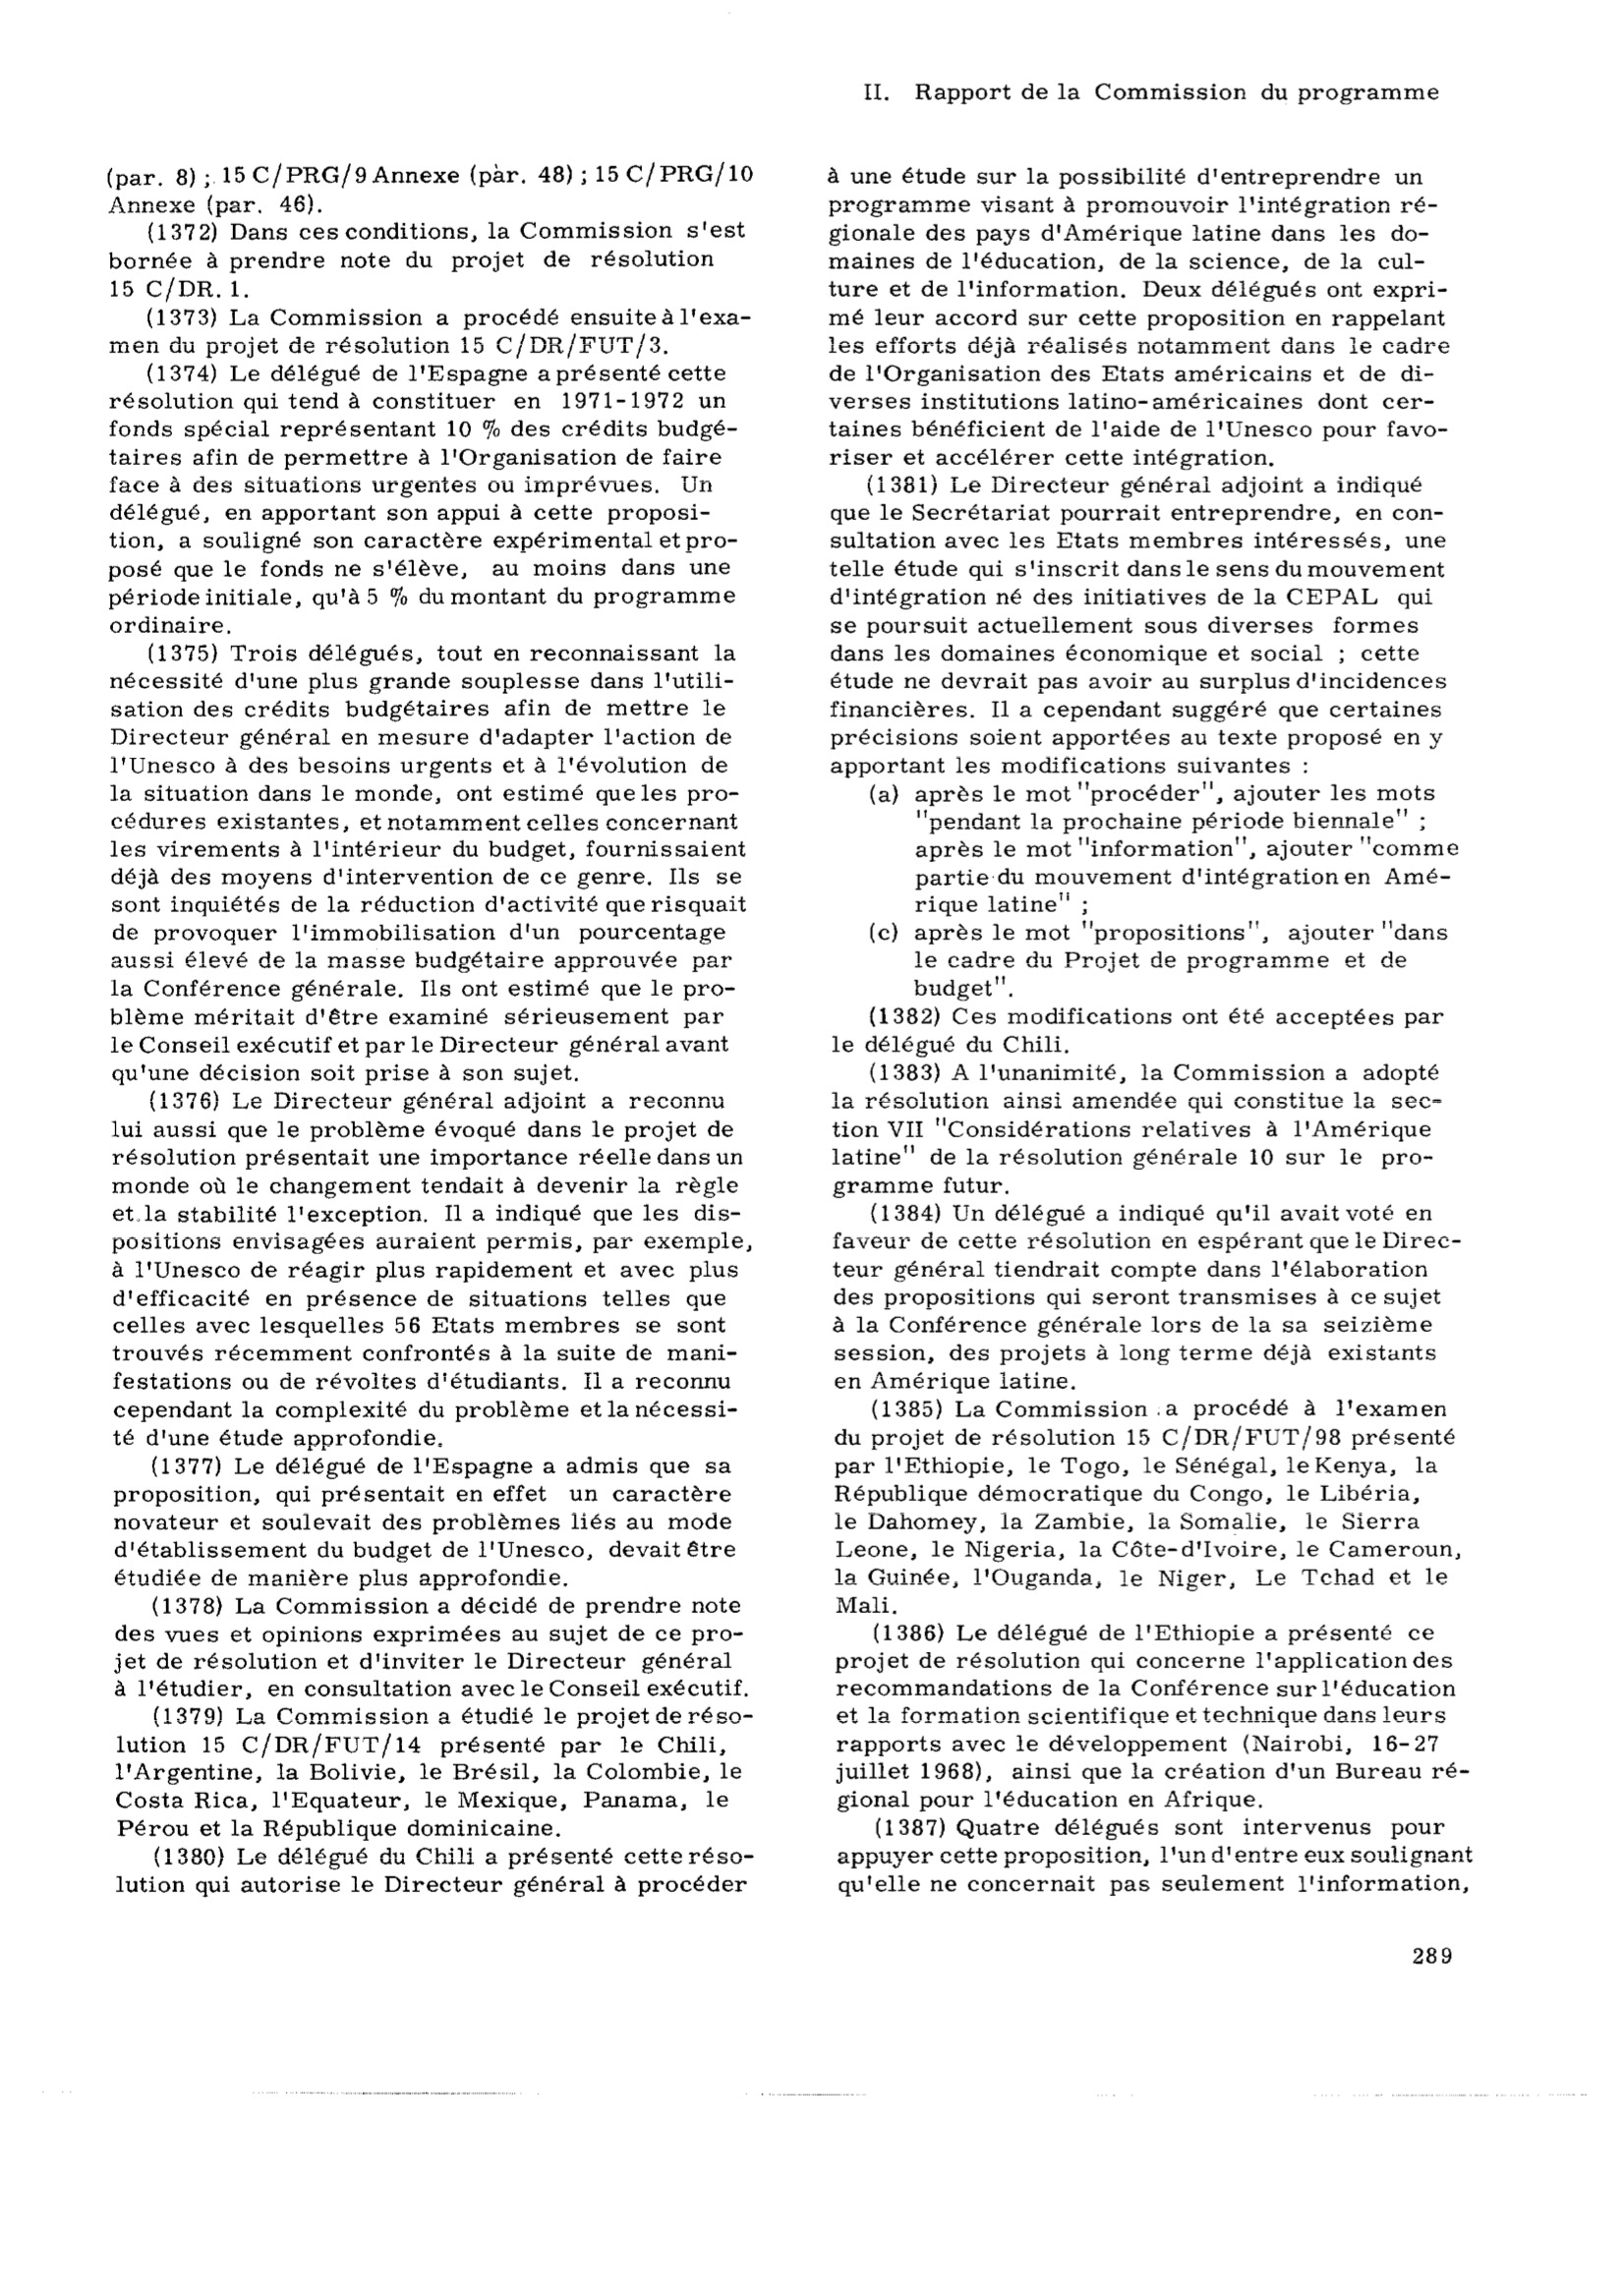MainZone-Continued: (819, 158, 1457, 473), (98, 158, 761, 218)
MainZone-ListItem: (105, 636, 754, 1086), (104, 1084, 756, 1449), (823, 469, 1457, 780), (100, 358, 756, 636), (826, 1395, 1468, 1618), (828, 1618, 1473, 1813), (826, 1200, 1468, 1393), (109, 1700, 766, 1841), (105, 1449, 749, 1592), (823, 775, 1468, 913), (824, 1059, 1461, 1198), (104, 1592, 758, 1702), (828, 1813, 1482, 1904), (100, 216, 761, 302), (826, 915, 1464, 1003), (105, 1843, 766, 1903), (100, 302, 763, 360), (826, 1001, 1461, 1058)
NumberingZone: (1404, 1934, 1462, 1978)
RunningTitleZone: (852, 67, 1448, 111)
